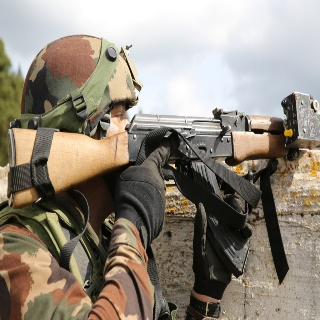rifle: (6, 87, 320, 213)
